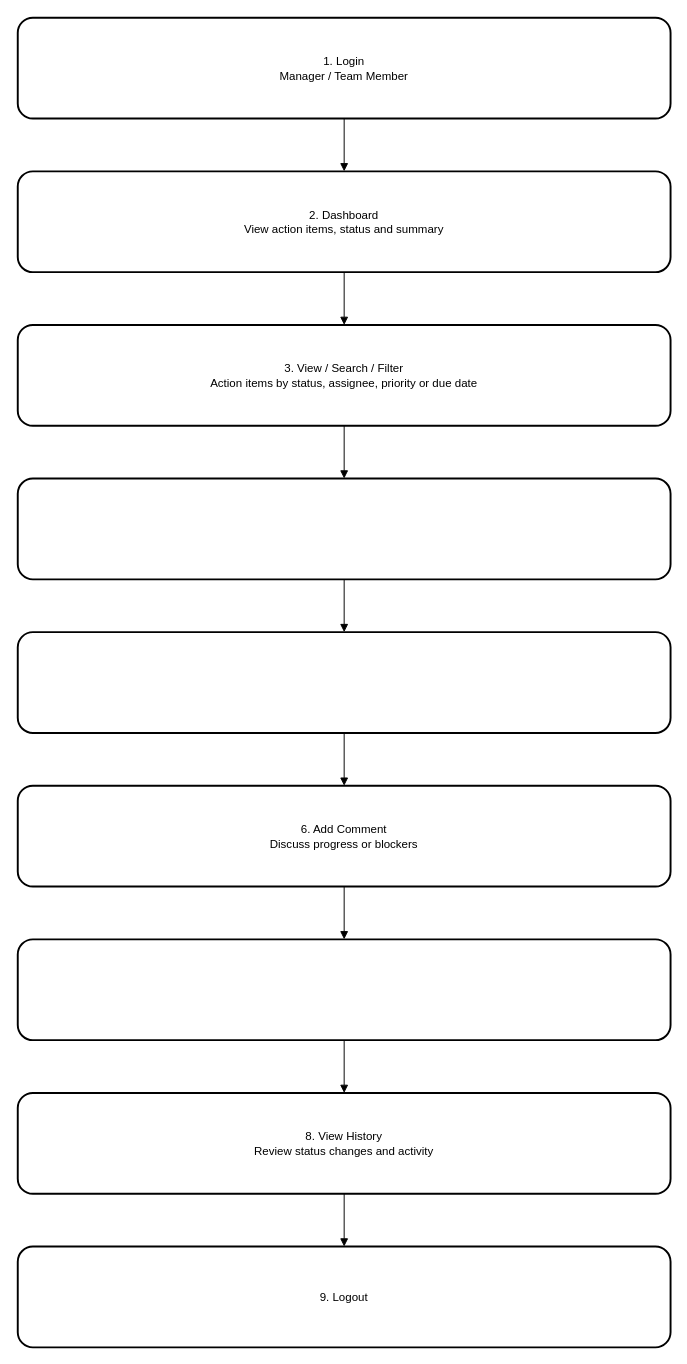
Image size: 687x1364. Some labels were removed from this diagram. The box of each missing label's shape, as (x1, y1, x2, y2) in pixels:
4. Create / Assign Action Manager creates an item and assigns a team member: (16, 477, 671, 580)
5. Update Action Edit permitted fields and update status: (16, 631, 671, 733)
7. Complete / Reopen Complete the action or reopen when permitted: (16, 938, 671, 1041)
